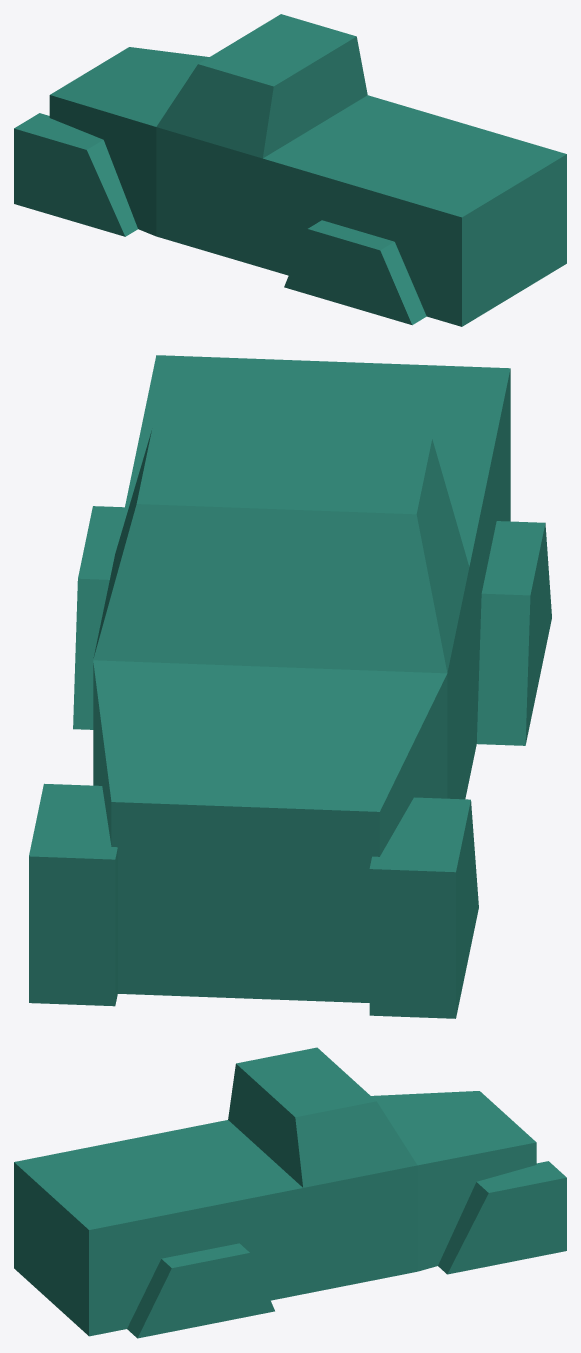
The model's file is Car 1.fbx.
The picture shows the model from 3 angles, top to bottom: view 1: azimuth 30°, elevation 25°; view 2: azimuth 150°, elevation 25°; view 3: azimuth 270°, elevation 25°; orthographic projection. The views are drawn at different scales.
Parts seen in each view (by area): view 1: Cube.012; view 2: Cube.012; view 3: Cube.012.
Boxes of the visible parts, x1=… form: Cube.012: x1=14, y1=14, x2=566, y2=326; Cube.012: x1=29, y1=355, x2=551, y2=1018; Cube.012: x1=14, y1=1047, x2=566, y2=1338.
Bounding box in the file's own units: 452 × 211 × 622.
